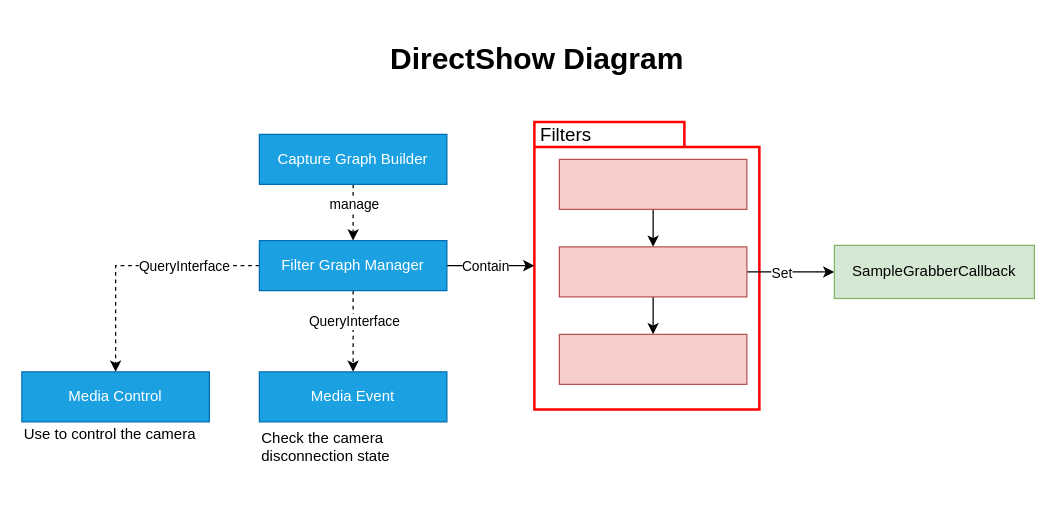
The diagram is 1056 pixels wide and 505 high, and some of its shapes have lost their labels. Here are the shapes that lost their labels. From the top down, the centre of each, then its label:
the point at 652,183: Video Input Filter
the point at 652,271: Sample Grabber Filter
the point at 652,358: Null Renderer Filter
